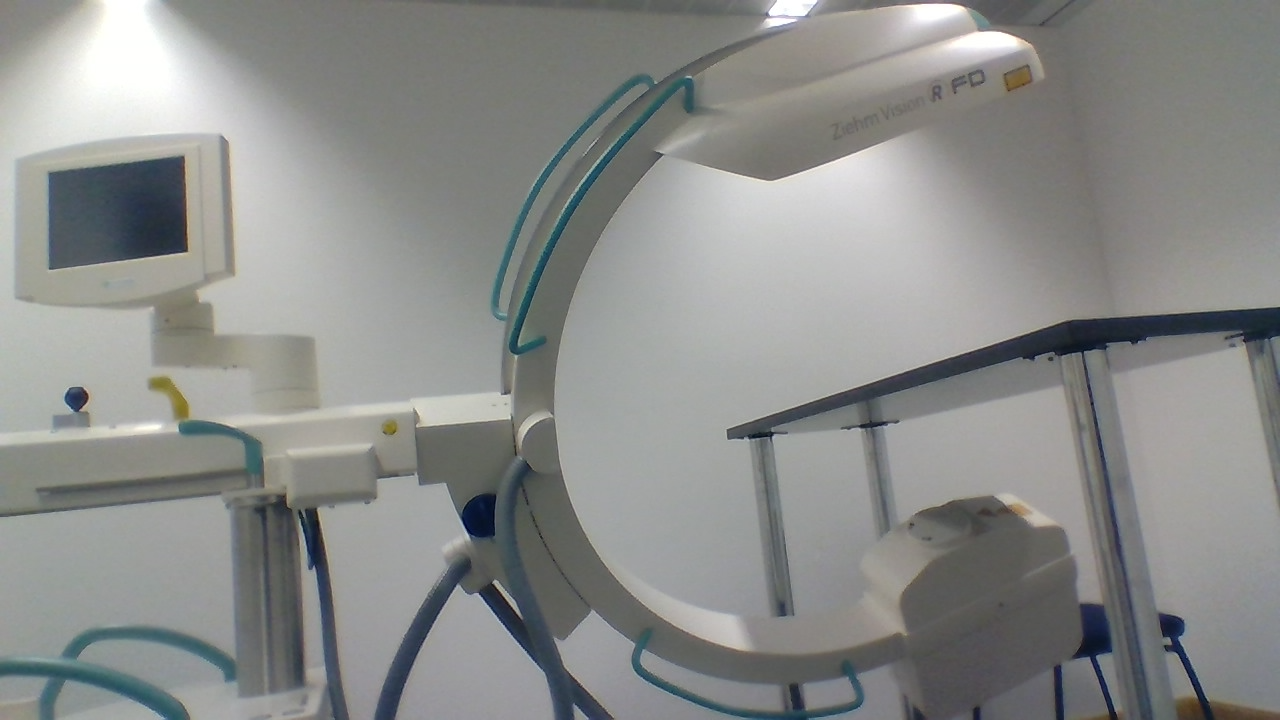carmDOWN: (859, 490, 1070, 631)
carmLOCK: (458, 490, 510, 539)
carmSCREEN: (11, 131, 236, 312)
carmUP: (645, 0, 1046, 183)
